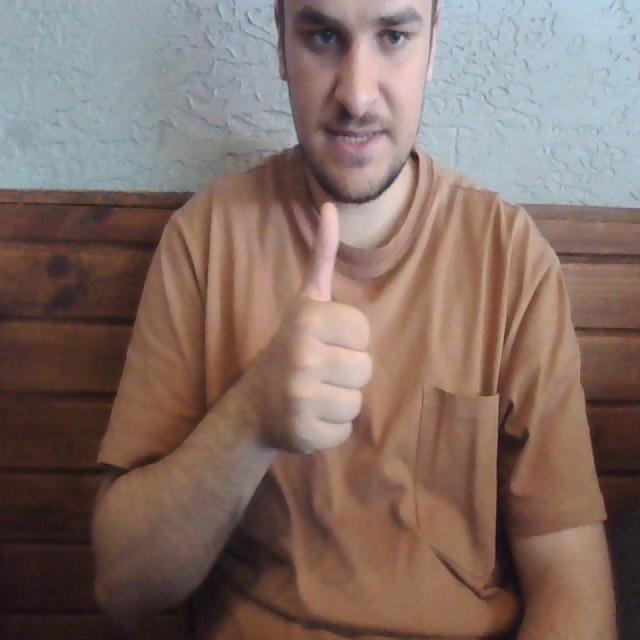Tamam: (247, 192, 378, 464)
